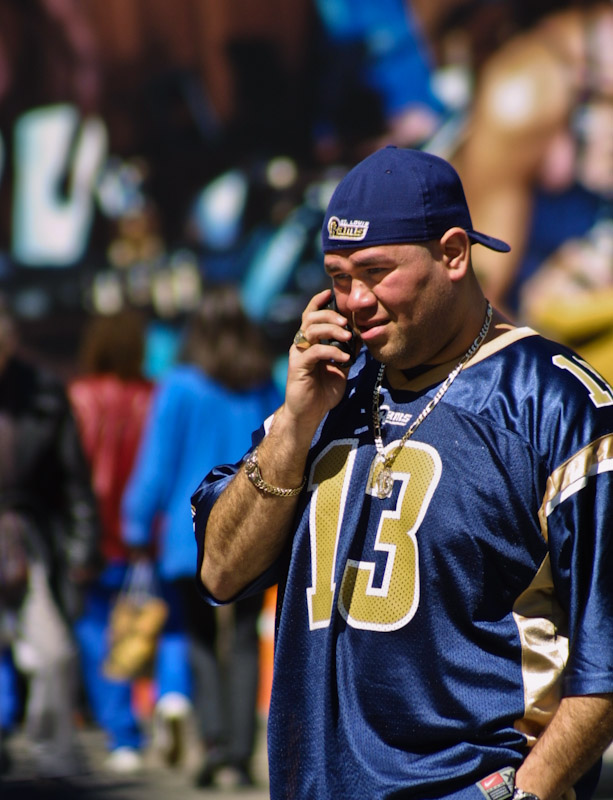phone: (301, 278, 355, 370)
talk: (290, 253, 443, 415)
